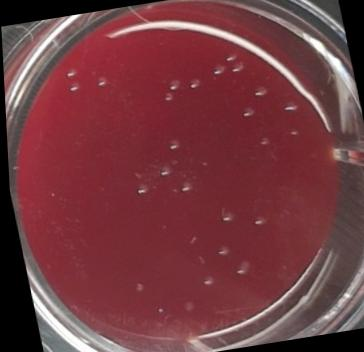pdpiscicida: (160, 88, 174, 103)
